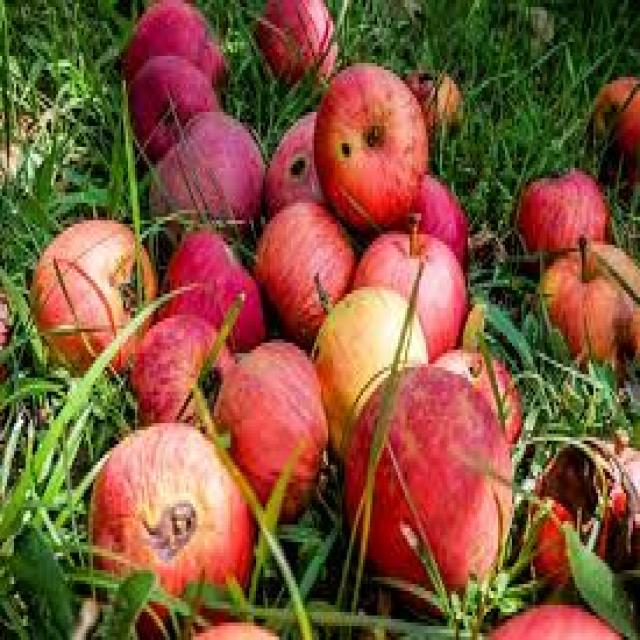organic waste: (340, 363, 510, 622), (88, 419, 252, 636), (309, 269, 426, 469), (519, 427, 638, 619), (212, 336, 326, 521), (28, 210, 156, 374), (312, 59, 423, 228), (352, 206, 466, 354), (530, 231, 638, 378), (252, 192, 352, 332), (149, 108, 261, 231), (126, 311, 235, 437), (158, 231, 266, 357), (428, 339, 522, 448), (119, 0, 223, 98), (126, 52, 221, 150), (517, 161, 605, 245), (261, 105, 328, 210), (251, 0, 333, 77), (479, 598, 638, 637), (586, 73, 638, 189), (407, 168, 468, 262), (402, 63, 458, 136), (172, 616, 279, 636)
